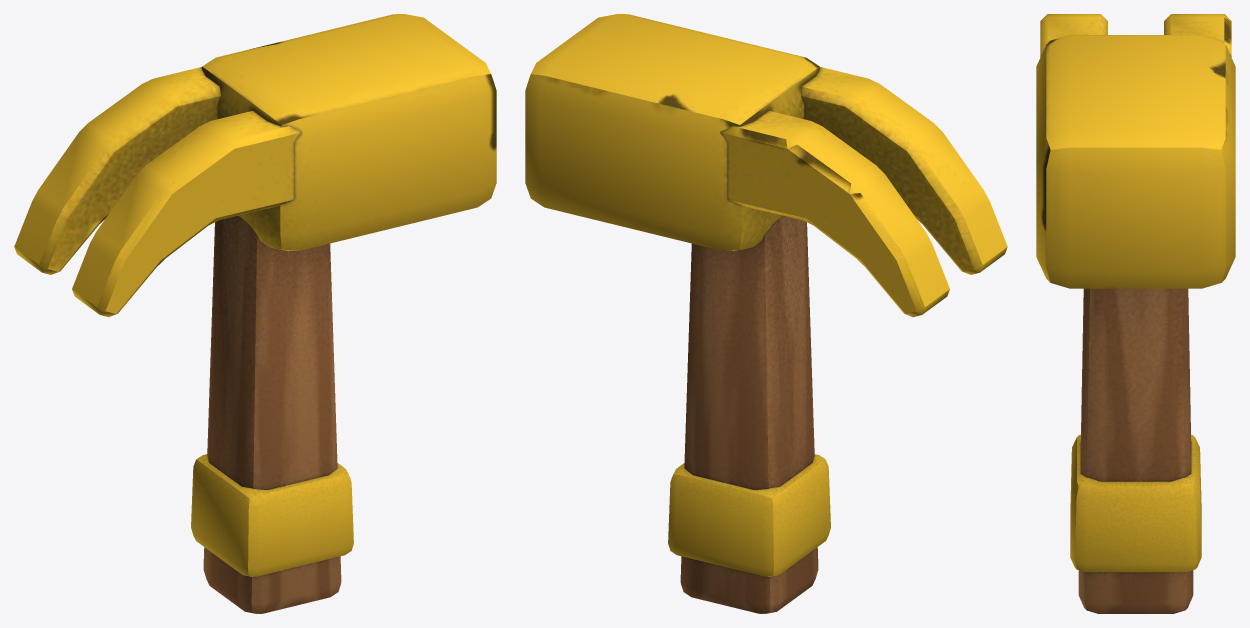
3 views of the same model, side by side, from view 1: azimuth 30°, elevation 25°; view 2: azimuth 150°, elevation 25°; view 3: azimuth 270°, elevation 25° (orthographic). The views are drawn at different scales.
Parts seen in each view (by area): view 1: Polished_cartoon_gold, Sanded_timber_brown, Hardhat_yellow_rubber; view 2: Polished_cartoon_gold, Sanded_timber_brown, Hardhat_yellow_rubber; view 3: Polished_cartoon_gold, Sanded_timber_brown, Hardhat_yellow_rubber.
Boxes of the visible parts, x1=… form: Polished_cartoon_gold: x1=14, y1=14, x2=496, y2=317; Sanded_timber_brown: x1=203, y1=216, x2=341, y2=613; Hardhat_yellow_rubber: x1=191, y1=454, x2=353, y2=576; Polished_cartoon_gold: x1=525, y1=14, x2=1007, y2=317; Sanded_timber_brown: x1=680, y1=216, x2=818, y2=613; Hardhat_yellow_rubber: x1=668, y1=454, x2=830, y2=576; Polished_cartoon_gold: x1=1036, y1=14, x2=1235, y2=288; Sanded_timber_brown: x1=1078, y1=288, x2=1193, y2=613; Hardhat_yellow_rubber: x1=1070, y1=434, x2=1201, y2=572.
Size of the model in its own units: 0.6313 by 0.765 by 0.25.
Materials: 3 (3 with a texture image).
